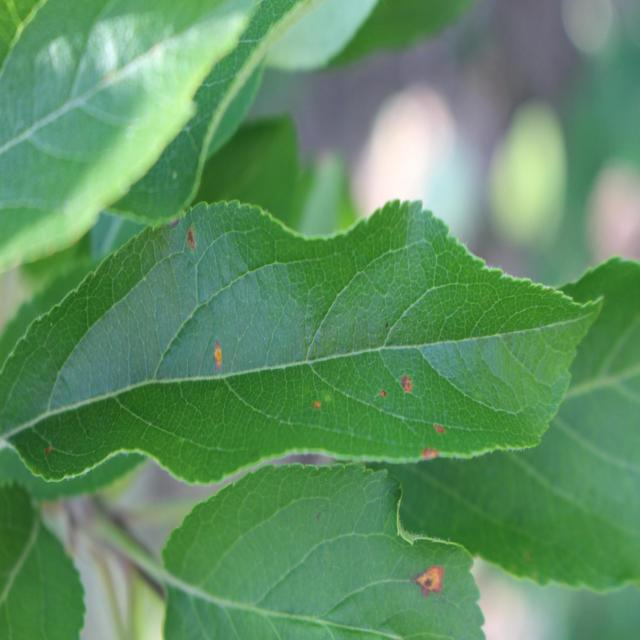Rust: (406, 553, 467, 619), (391, 361, 420, 400), (415, 440, 452, 469), (207, 338, 230, 381), (305, 394, 335, 426), (422, 415, 452, 438), (371, 369, 387, 405)
